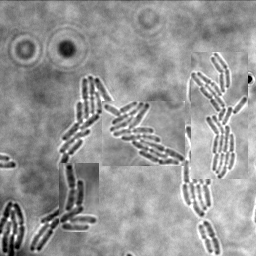Dividing: (204, 219, 222, 255), (199, 223, 215, 253)
Microcolony: (191, 52, 248, 179), (59, 75, 136, 169), (102, 101, 185, 166), (59, 163, 99, 232), (30, 204, 72, 251), (1, 200, 26, 255)
